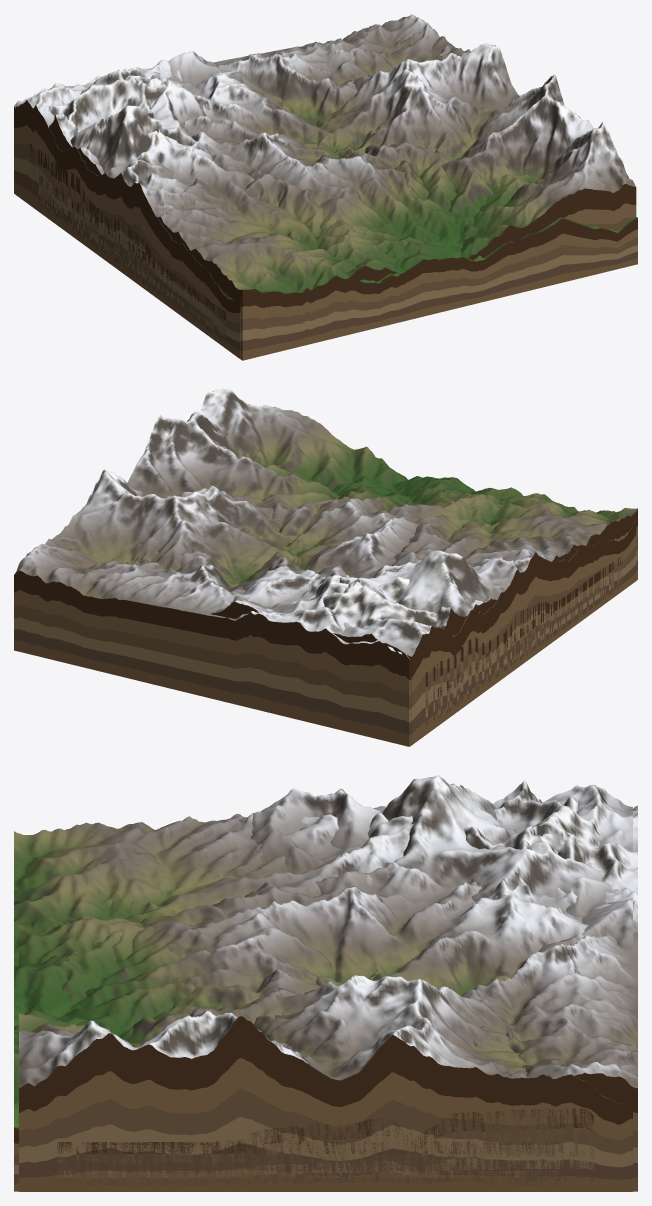
The model's file is landforms.glb.
3 renders of one model, top to bottom at view 1: azimuth 30°, elevation 25°; view 2: azimuth 150°, elevation 25°; view 3: azimuth 270°, elevation 25°, orthographic. The views are drawn at different scales.
Visible parts, largest first — view 1: mountain, valley, mountain_block, valley_block, plateau_block, delta_block; view 2: valley, mountain, mountain_block, valley_block, plateau_block, delta_block; view 3: mountain, valley_block, valley, plateau_block, delta_block, mountain_block.
Part boxes in pixels (x1,y1,x2,y2): mountain: (14, 14, 637, 293); valley: (16, 29, 635, 300); mountain_block: (14, 106, 637, 360); valley_block: (15, 100, 636, 359); plateau_block: (29, 143, 226, 348); delta_block: (40, 176, 215, 337); valley: (45, 389, 635, 656); mountain: (14, 464, 637, 659); mountain_block: (14, 509, 637, 746); valley_block: (210, 520, 636, 745); plateau_block: (425, 556, 620, 734); delta_block: (437, 563, 611, 725); mountain: (14, 779, 637, 1128); valley_block: (19, 1016, 632, 1191); valley: (19, 775, 632, 1103); plateau_block: (57, 1108, 594, 1191); delta_block: (87, 1140, 564, 1191); mountain_block: (14, 1072, 637, 1191).
Size of the model in its own units: 0.4 by 0.127 by 0.4.
